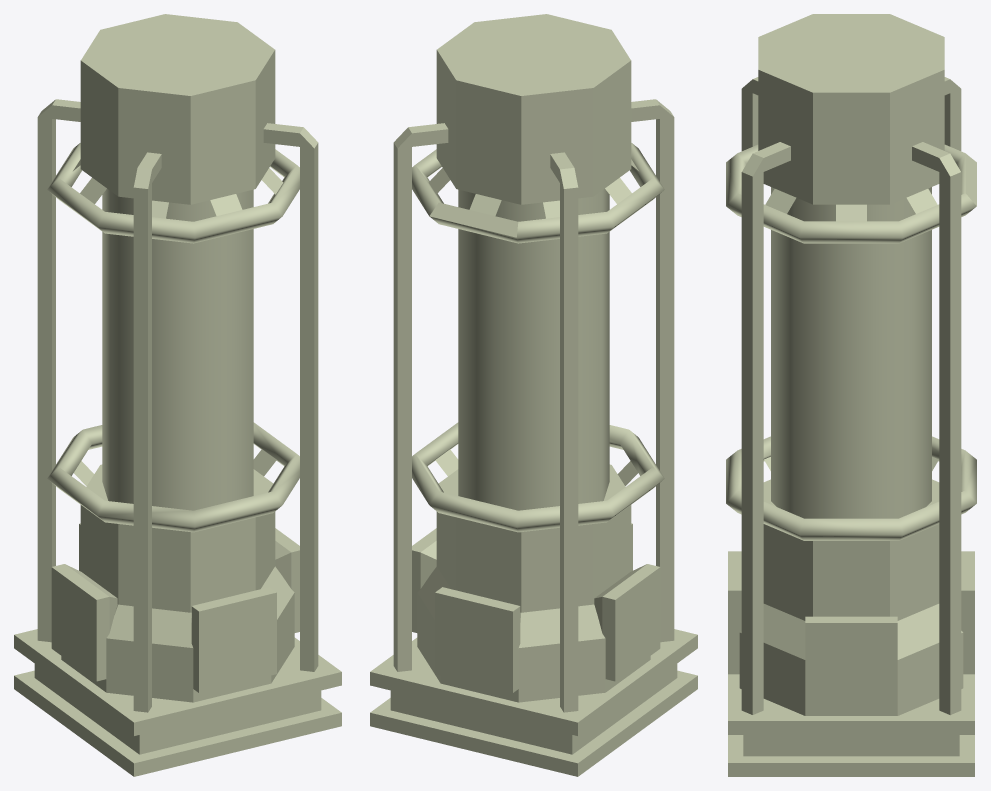
The model's file is mixer.obj.
3 renders of one model, left to right at view 1: azimuth 30°, elevation 25°; view 2: azimuth 150°, elevation 25°; view 3: azimuth 270°, elevation 25°, orthographic. The views are drawn at different scales.
Parts seen in each view (by area): view 1: Main; view 2: Main; view 3: Main.
Part boxes in pixels (bbox=[...]): Main: bbox=[14, 14, 341, 776]; Main: bbox=[370, 14, 697, 776]; Main: bbox=[726, 14, 976, 776].
Bounding box in the file's own units: 1.02 × 3 × 1.02.
